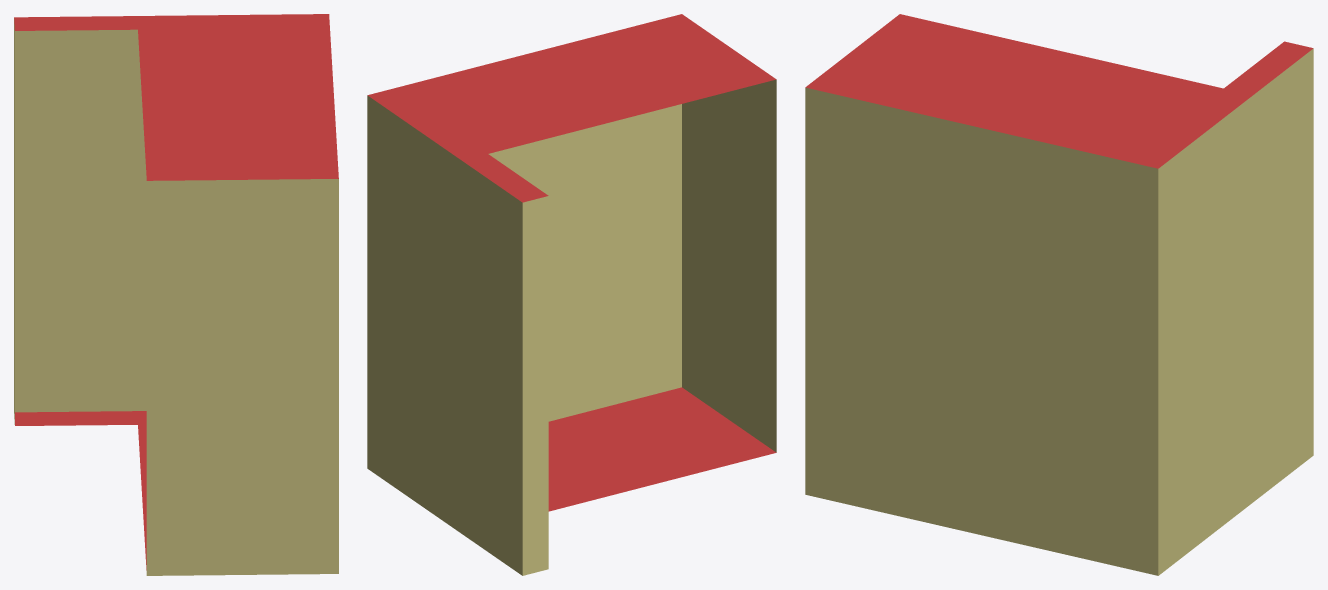
3 renders of one model, left to right at view 1: azimuth 30°, elevation 25°; view 2: azimuth 150°, elevation 25°; view 3: azimuth 270°, elevation 25°, orthographic. The views are drawn at different scales.
Visible parts, largest first — view 1: group_4, group_3, group_5; view 2: group_4, group_3, group_5; view 3: group_4, group_3.
Boxes of the visible parts, x1,y1,x2,y2 form: group_4: (14,18,338,575); group_3: (14,14,338,180); group_5: (15,411,146,570); group_4: (367,79,776,575); group_3: (367,14,776,202); group_5: (548,387,776,511); group_4: (805,48,1313,575); group_3: (805,14,1313,168).
Bounding box in the file's own units: 5.8 × 8.06 × 7.12.
